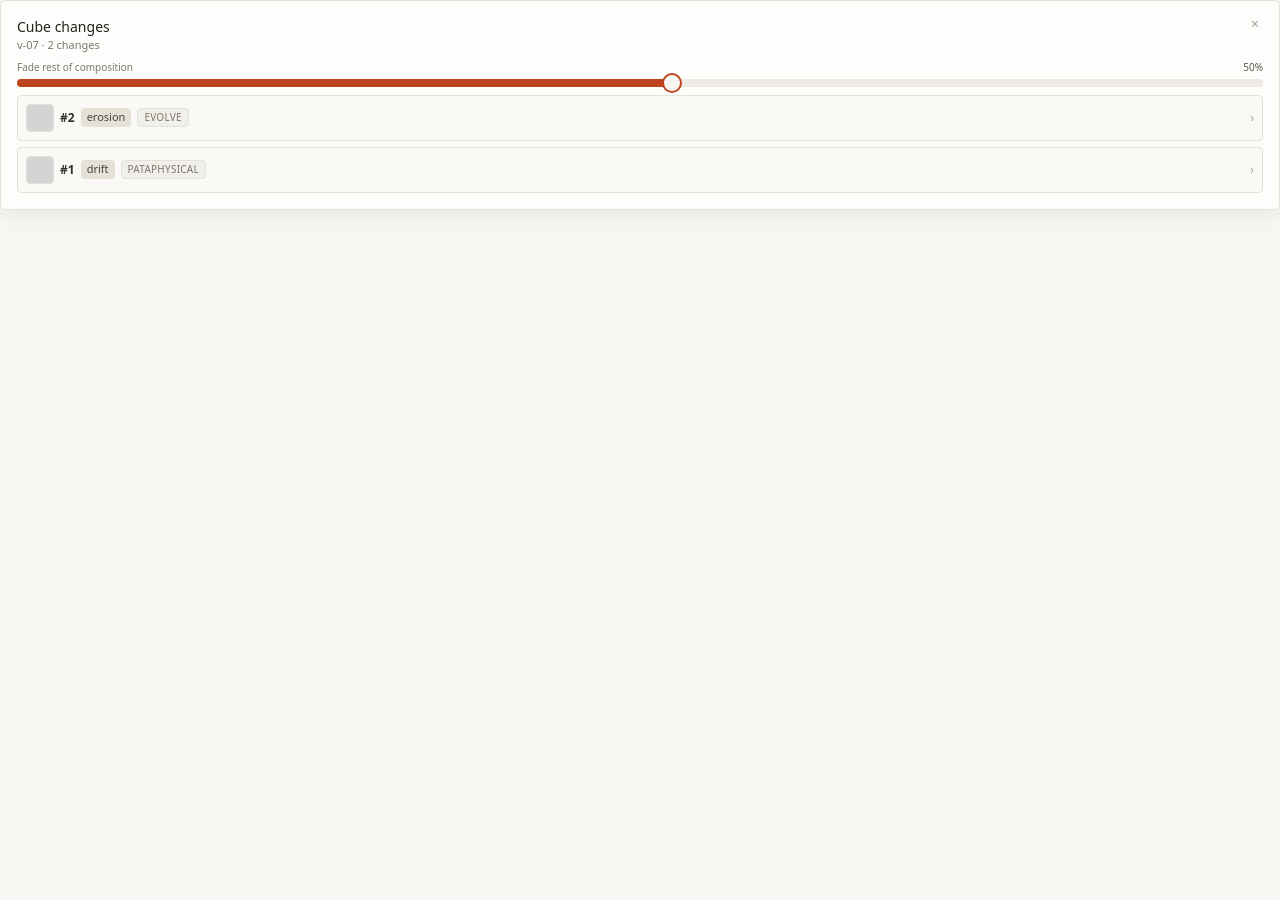
CubeChangeCard › lists multiple changes newest-first and labels their origin
expect the text "v-07 · 2 changes" is shown: met, box [17, 37, 110, 54]
expect the text "Evolve" is shown: met, box [137, 108, 189, 127]
Opening the older entry shows its reasoning in the drawer.
Click the button "#1 drift Pataphysical ›": (98, 170) [17, 146, 1263, 192]
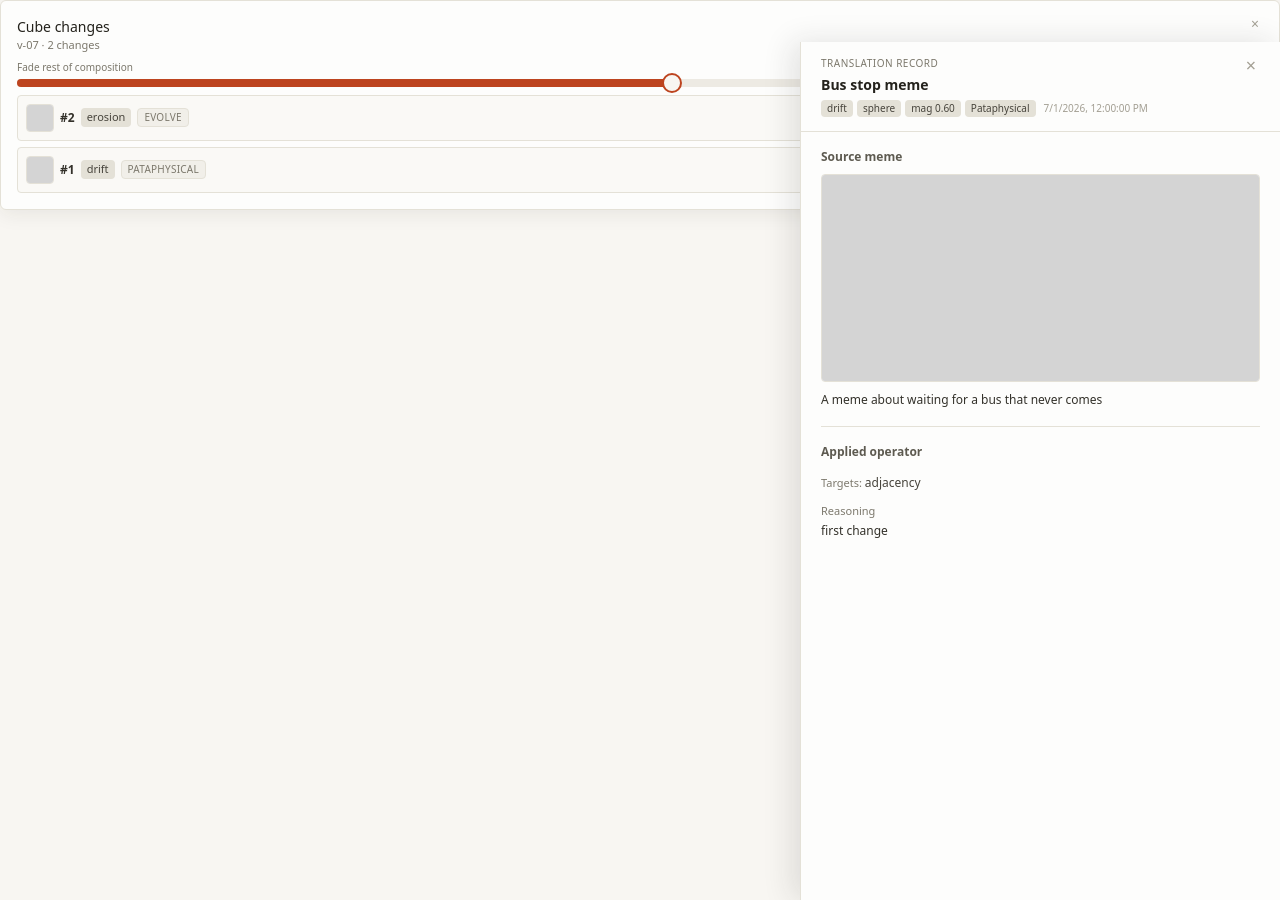
expect the text "first change" is shown: met, box [821, 522, 888, 539]
